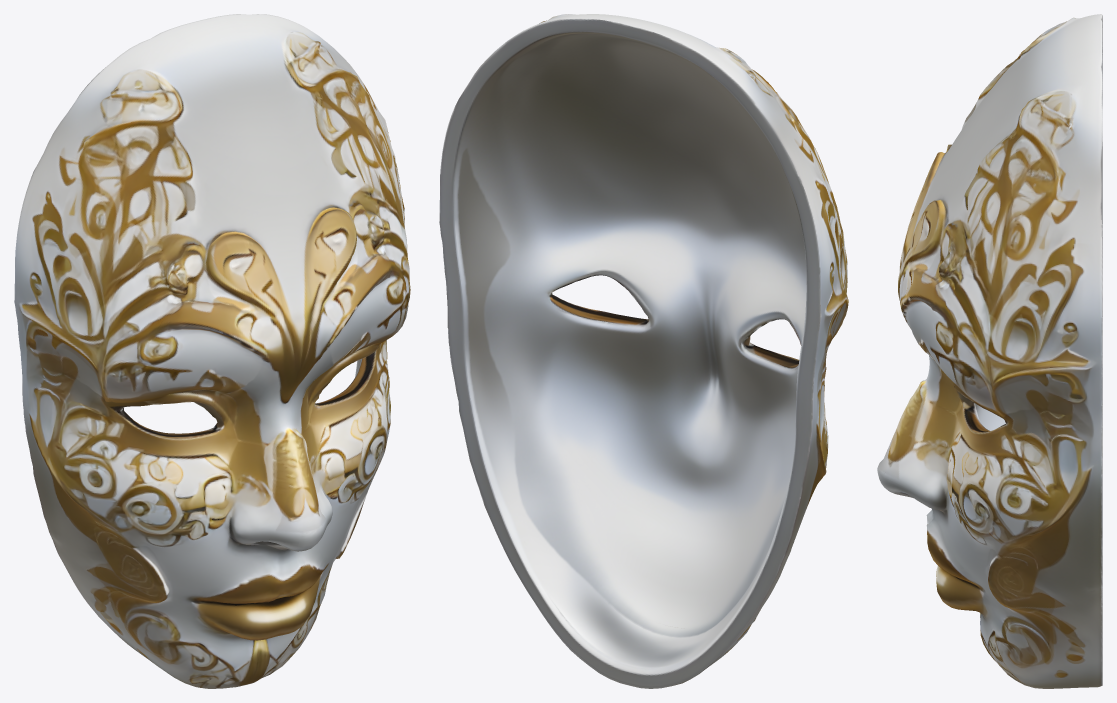
The model's file is venetian_maskk_g.glb.
The picture shows the model from 3 angles, left to right: view 1: azimuth 30°, elevation 25°; view 2: azimuth 150°, elevation 25°; view 3: azimuth 270°, elevation 25°; orthographic projection. The views are drawn at different scales.
Visible parts, largest first — view 1: model; view 2: model; view 3: model.
Part boxes in pixels (left/top/right/bottom): model: left=14, top=14, right=410, bottom=688; model: left=439, top=14, right=848, bottom=688; model: left=877, top=14, right=1102, bottom=688.
Size of the model in its own units: 1.15 by 1.9 by 0.6076.
Materials: 1 (1 with a texture image).
